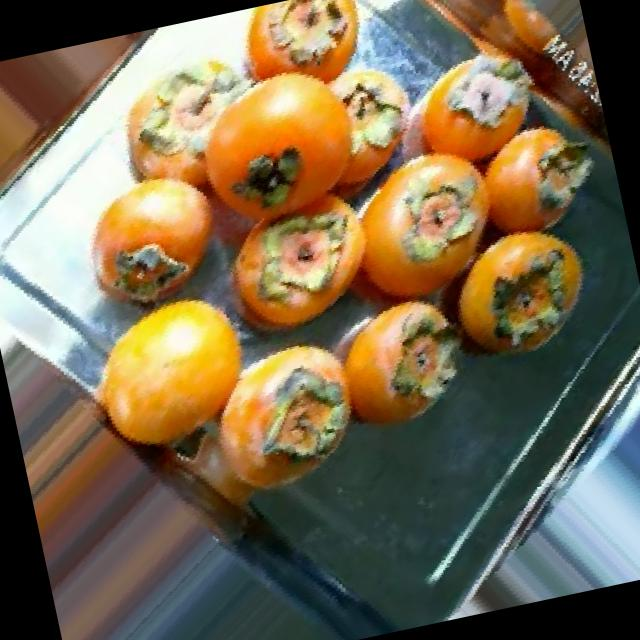Fruit: (44, 254, 288, 488), (266, 263, 497, 467), (217, 0, 393, 89)
